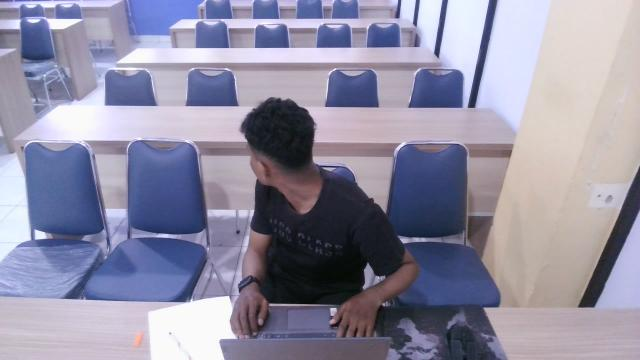Turning_Back: (219, 81, 397, 330)
